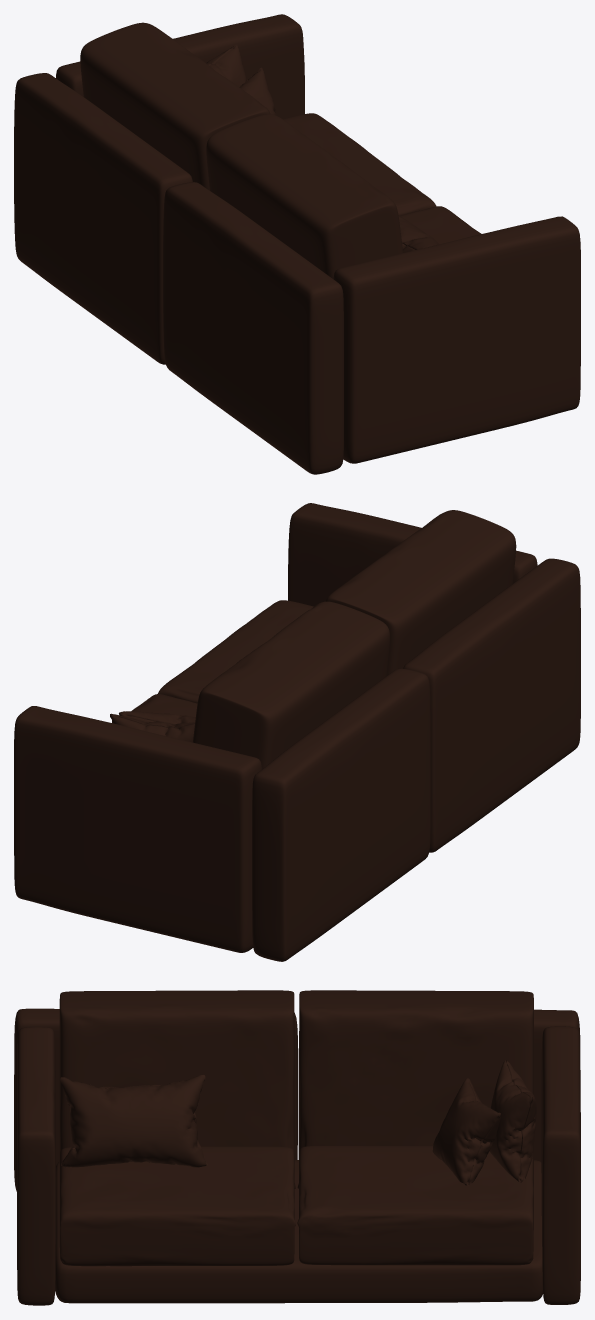
File: Couch.fbx
3 renders of one model, top to bottom at view 1: azimuth 30°, elevation 25°; view 2: azimuth 150°, elevation 25°; view 3: azimuth 270°, elevation 25°, orthographic. The views are drawn at different scales.
Visible parts, largest first — view 1: Couch; view 2: Couch; view 3: Couch.
Boxes of the visible parts, box(x1,y1,x2,y2) form: Couch: box(14, 14, 580, 474); Couch: box(14, 503, 580, 961); Couch: box(14, 990, 580, 1305).
Bounding box in the file's own units: 0.6919 × 1.28 × 0.5522.
